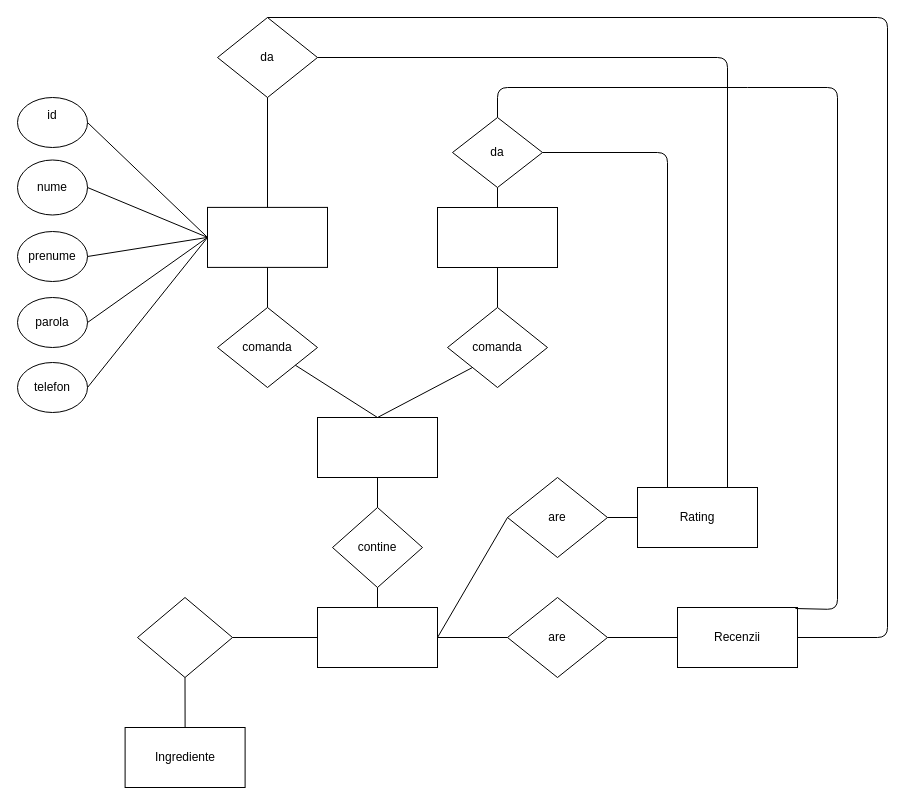
Some shapes in this 906 by 805 pixel diagram are drawn without their labels. Here are the shapes that lost their labels. From the top down, the centre of each, then its label:
the point at 267,236: Studenti
the point at 497,237: Profesori
the point at 377,447: Meniu
the point at 184,637: necesita
the point at 377,637: Preparate
